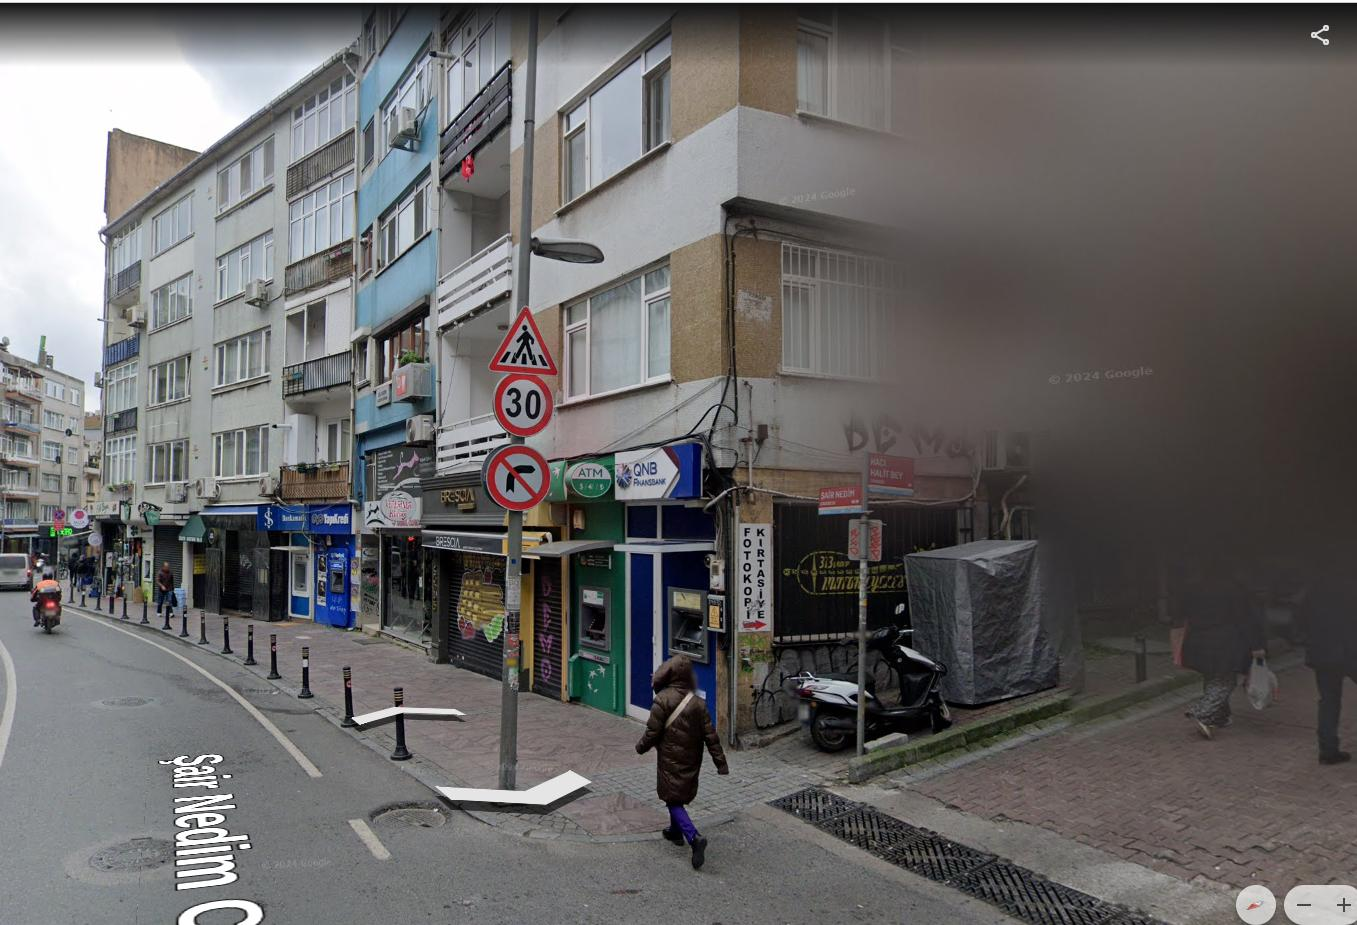rightturnsareforbidden: (490, 448, 545, 505)
